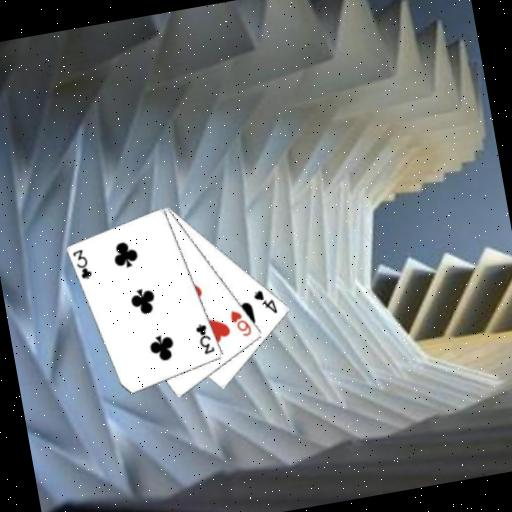3C: (191, 319, 217, 357), (68, 245, 94, 283)
4S: (250, 284, 280, 318)
6H: (226, 304, 254, 340)
